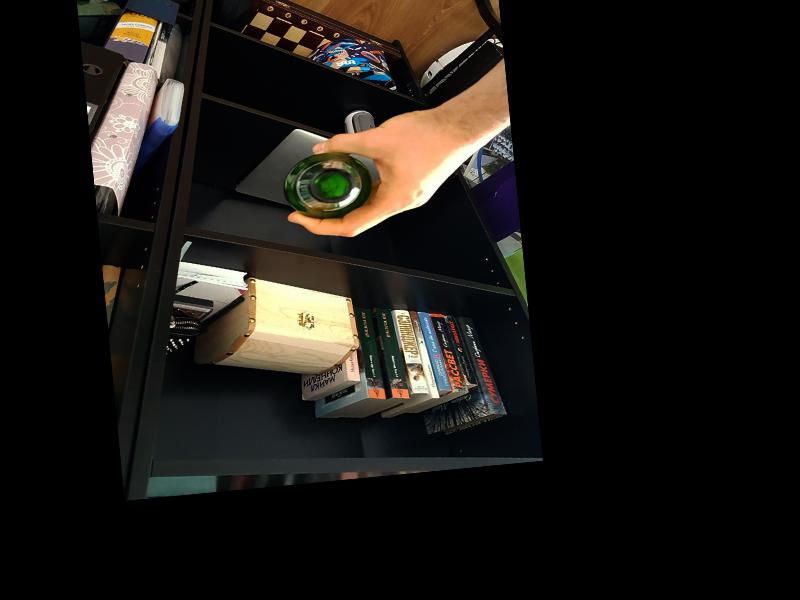Beer: (285, 147, 372, 221)
